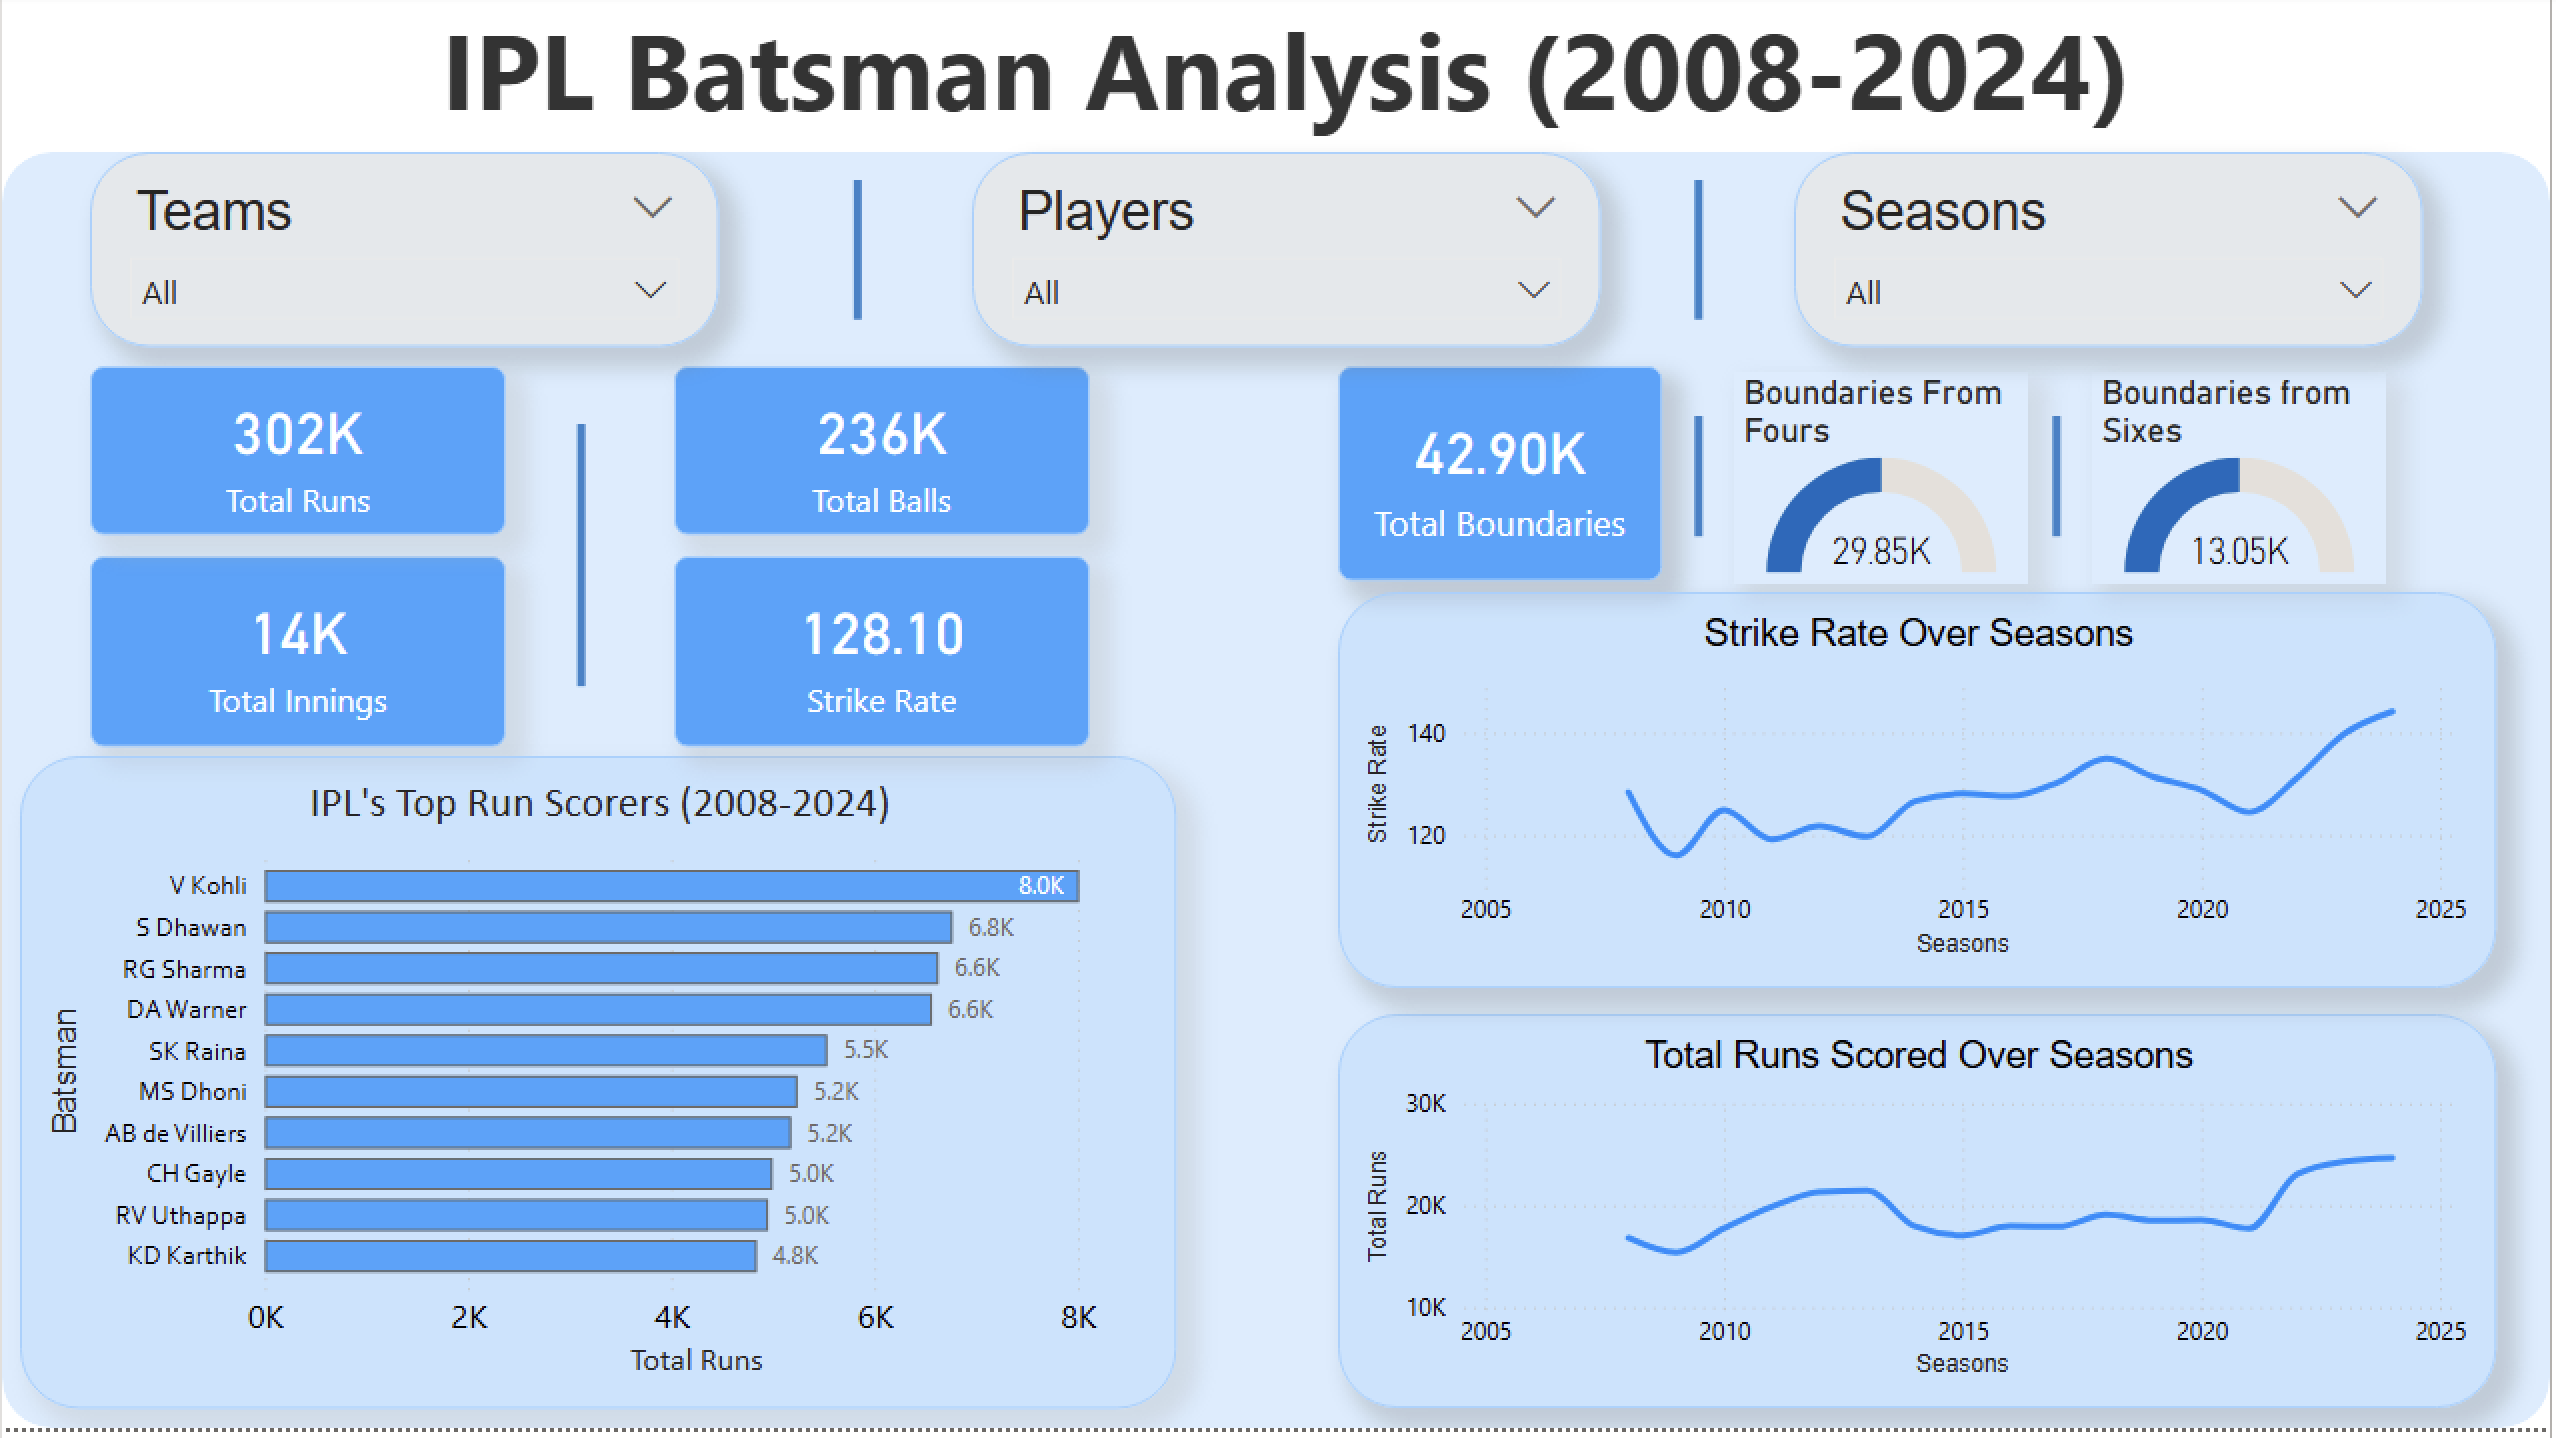

This screenshot's page, from the dashboard's own definition file:
{"tool":"powerbi","page":{"name":"Batsman Analysis","canvas":[1280,720],"ordinal":1},"visuals":[{"type":"shape","box":[0,79.4,1280,641],"z":0},{"type":"card","fields":{"Values":["Sum(batting_stats_improved (2).Total_balls)"]},"box":[337.8,187,208.7,84.7],"z":1000},{"type":"slicer","fields":{"Values":["deliveries_cleaned.batting_team"]},"box":[44.3,78.9,315.5,98.2],"z":2000},{"type":"card","fields":{"Values":["Sum(batting_stats_improved (2).Innings_played)"]},"box":[44.4,282,208.7,96.1],"z":3000},{"type":"textbox","box":[0,0,1280.1,79.5],"z":4000},{"type":"card","fields":{"Values":["Sum(batting_stats_improved (2).Total_runs)"]},"box":[44.4,187,208.7,84.7],"z":5000},{"type":"clusteredBarChart","title":"IPL''s Top Run Scorers (2008-2024)","fields":{"Category":["deliveries_cleaned.batter"],"Y":["Sum(deliveries_cleaned.batsman_runs)"]},"box":[9,383,580.9,327.9],"z":6000},{"type":"card","fields":{"Values":["CountNonNull(deliveries_cleaned.Runs From Boundaries)"]},"box":[671.2,187,162.6,108.4],"z":7000},{"type":"lineChart","title":"Total Runs Scored Over Seasons","fields":{"Category":["matches_cleaned.season"],"Y":["Sum(deliveries_cleaned.batsman_runs)"]},"box":[671.5,512.4,581.6,198.4],"z":8000},{"type":"card","fields":{"Values":["batting_stats_improved (2).Strike Rate"]},"box":[337.8,282,208.7,96.1],"z":9000},{"type":"gauge","fields":{"Y":["CountNonNull(deliveries_cleaned.Runs From Fours)"]},"box":[870,189.7,148.2,105.7],"z":10000},{"type":"gauge","fields":{"Y":["CountNonNull(deliveries_cleaned.Runs from Sixes)"]},"box":[1049.7,189.7,148.2,105.7],"z":11000},{"type":"slicer","fields":{"Values":["deliveries_cleaned.batter"]},"box":[486.9,79.5,316.2,97.6],"z":12000},{"type":"shape","box":[845.6,212.3,12.6,60.5],"z":13000},{"type":"shape","box":[283.7,215.9,15.4,131.9],"z":14000},{"type":"shape","box":[845.6,93,12.6,70.5],"z":15000},{"type":"shape","box":[423.7,93,11.7,70.5],"z":16000},{"type":"lineChart","title":"Strike Rate Over Seasons","fields":{"Category":["batting_stats_improved (2).season"],"Y":["batting_stats_improved (2).Strike Rate"]},"box":[671.1,300.4,581.7,198.9],"z":17000},{"type":"slicer","fields":{"Values":["bridge table.season"]},"box":[899.8,79.5,316.2,97.6],"z":18000},{"type":"shape","box":[1026.2,212.3,12.6,60.5],"z":19000}]}

Visuals, with their boxes in screenshot pixels (x1, y1, x2, y2), scaled from the page's 1280x720 canvas onto the 2556x1438 screenshot:
shape: {"x1": 0, "y1": 159, "x2": 2555, "y2": 1437}
card - Sum(batting_stats_improved (2).Total_balls): {"x1": 675, "y1": 373, "x2": 1091, "y2": 543}
slicer - deliveries_cleaned.batting_team: {"x1": 88, "y1": 158, "x2": 718, "y2": 354}
card - Sum(batting_stats_improved (2).Innings_played): {"x1": 89, "y1": 563, "x2": 505, "y2": 755}
textbox: {"x1": 0, "y1": 0, "x2": 2555, "y2": 159}
card - Sum(batting_stats_improved (2).Total_runs): {"x1": 89, "y1": 373, "x2": 505, "y2": 543}
"IPL''s Top Run Scorers (2008-2024)" clusteredBarChart: {"x1": 18, "y1": 765, "x2": 1178, "y2": 1420}
card - CountNonNull(deliveries_cleaned.Runs From Boundaries): {"x1": 1340, "y1": 373, "x2": 1665, "y2": 590}
"Total Runs Scored Over Seasons" lineChart: {"x1": 1341, "y1": 1023, "x2": 2502, "y2": 1420}
card - batting_stats_improved (2).Strike Rate: {"x1": 675, "y1": 563, "x2": 1091, "y2": 755}
gauge - CountNonNull(deliveries_cleaned.Runs From Fours): {"x1": 1737, "y1": 379, "x2": 2033, "y2": 590}
gauge - CountNonNull(deliveries_cleaned.Runs from Sixes): {"x1": 2096, "y1": 379, "x2": 2392, "y2": 590}
slicer - deliveries_cleaned.batter: {"x1": 972, "y1": 159, "x2": 1604, "y2": 354}
shape: {"x1": 1689, "y1": 424, "x2": 1714, "y2": 545}
shape: {"x1": 567, "y1": 431, "x2": 597, "y2": 695}
shape: {"x1": 1689, "y1": 186, "x2": 1714, "y2": 327}
shape: {"x1": 846, "y1": 186, "x2": 869, "y2": 327}
"Strike Rate Over Seasons" lineChart: {"x1": 1340, "y1": 600, "x2": 2502, "y2": 997}
slicer - bridge table.season: {"x1": 1797, "y1": 159, "x2": 2428, "y2": 354}
shape: {"x1": 2049, "y1": 424, "x2": 2074, "y2": 545}
